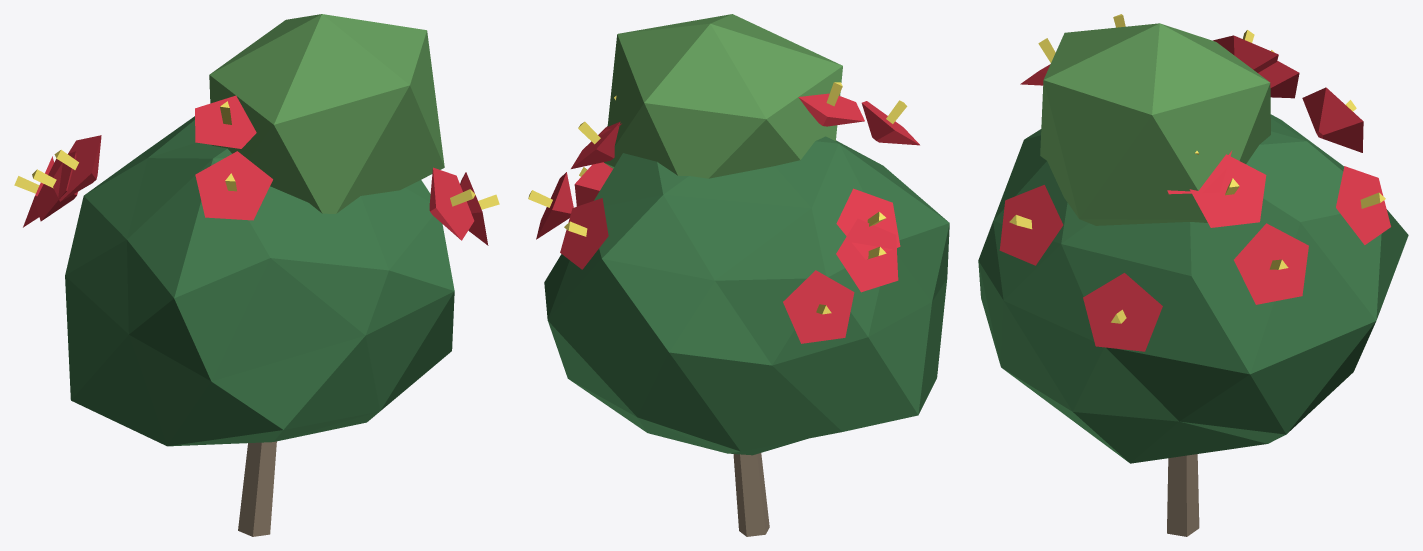
File: hibiscus.glb
3 views of the same model, side by side, from view 1: azimuth 30°, elevation 25°; view 2: azimuth 150°, elevation 25°; view 3: azimuth 270°, elevation 25° (orthographic). The views are drawn at different scales.
Parts seen in each view (by area): view 1: SG_Hibiscus; view 2: SG_Hibiscus; view 3: SG_Hibiscus.
Boxes of the visible parts, <box> form: SG_Hibiscus: <box>14,14,499,536</box>; SG_Hibiscus: <box>528,14,949,536</box>; SG_Hibiscus: <box>978,14,1408,536</box>.
Size of the model in its own units: 1.87 by 2.32 by 1.69.
